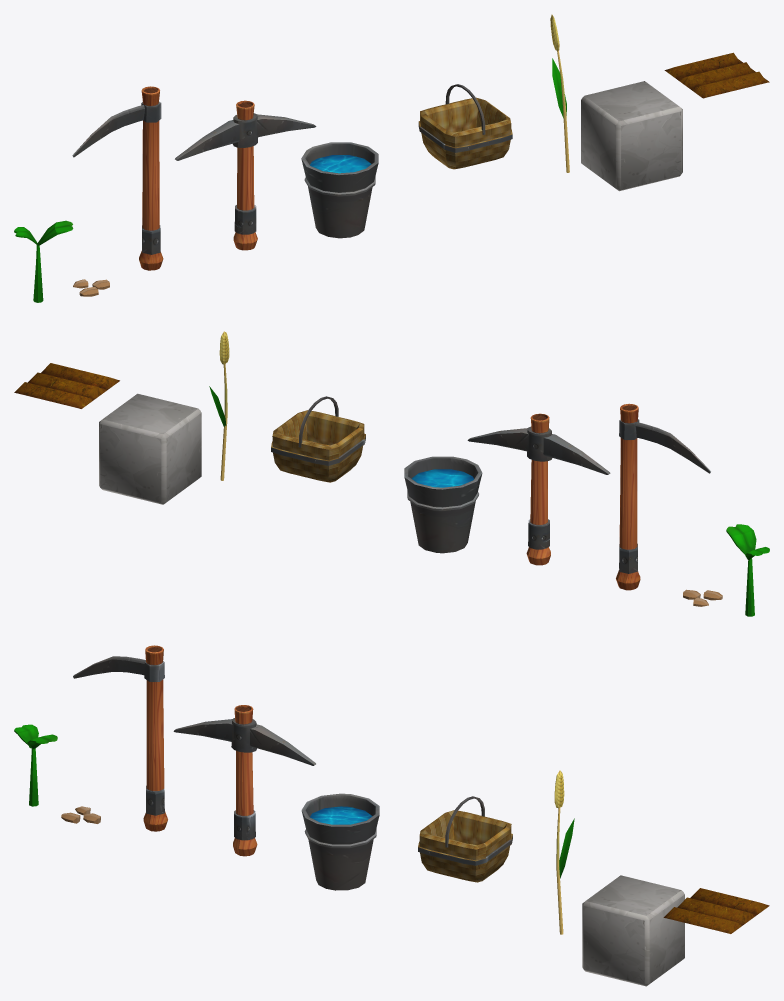
File: Merge_Farmer_Assets1.fbx
The picture shows the model from 3 angles, top to bottom: view 1: azimuth 30°, elevation 25°; view 2: azimuth 150°, elevation 25°; view 3: azimuth 330°, elevation 25°; orthographic projection.
Parts seen in each view (by area): view 1: Block, Basket, Bucket, Pickax, Sickle, Cube.012, Weed, Wheat, Water; view 2: Block, Basket, Bucket, Pickax, Sickle, Cube.012, Weed, Wheat, Water; view 3: Block, Basket, Bucket, Pickax, Sickle, Cube.012, Wheat, Weed, Water.
Boxes of the visible parts, bbox=[...] form: Block: bbox=[581, 81, 682, 191]; Basket: bbox=[418, 84, 512, 169]; Bucket: bbox=[301, 142, 378, 238]; Pickax: bbox=[175, 100, 316, 250]; Sickle: bbox=[72, 86, 163, 270]; Cube.012: bbox=[664, 52, 769, 98]; Weed: bbox=[14, 220, 73, 302]; Wheat: bbox=[550, 14, 569, 172]; Water: bbox=[310, 155, 371, 173]; Block: bbox=[99, 393, 201, 504]; Basket: bbox=[271, 396, 365, 482]; Bucket: bbox=[404, 456, 482, 553]; Pickax: bbox=[467, 413, 610, 565]; Sickle: bbox=[616, 403, 710, 590]; Cube.012: bbox=[14, 363, 119, 408]; Weed: bbox=[726, 524, 769, 616]; Wheat: bbox=[209, 331, 229, 480]; Water: bbox=[411, 469, 473, 487]; Block: bbox=[582, 875, 684, 986]; Basket: bbox=[418, 796, 512, 882]; Bucket: bbox=[301, 793, 379, 890]; Pickax: bbox=[173, 705, 315, 856]; Sickle: bbox=[73, 645, 167, 831]; Cube.012: bbox=[663, 888, 769, 933]; Wheat: bbox=[554, 770, 574, 934]; Weed: bbox=[14, 724, 57, 806]; Water: bbox=[310, 806, 372, 824].
Size of the model in its own units: 1093 by 279 by 105.
